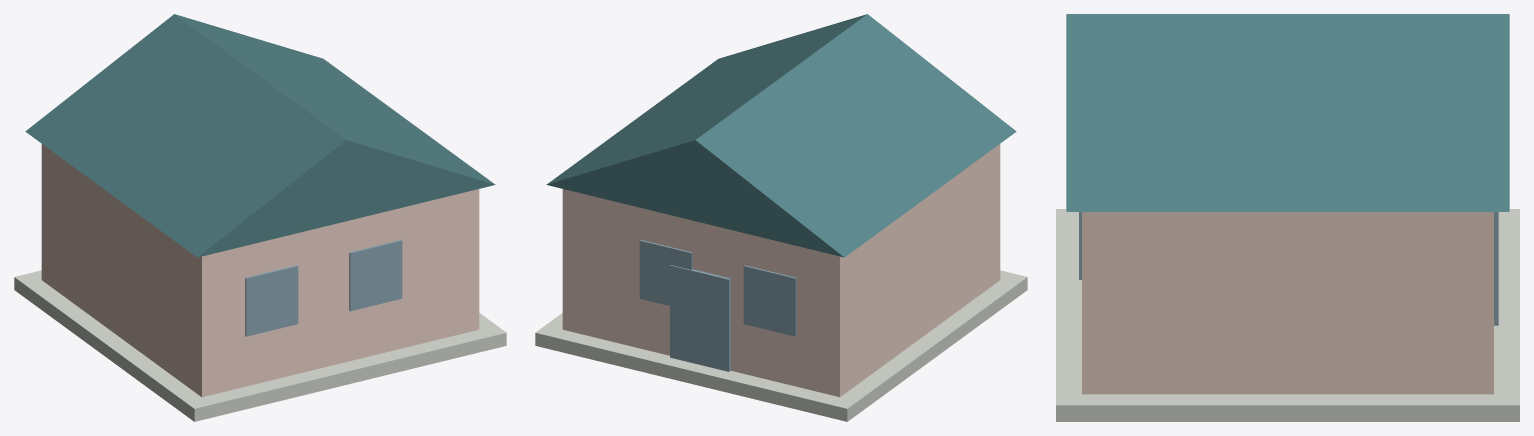
The model's file is town_house.glb.
3 views of the same model, side by side, from view 1: azimuth 30°, elevation 25°; view 2: azimuth 150°, elevation 25°; view 3: azimuth 270°, elevation 25° (orthographic). The views are drawn at different scales.
Visible parts, largest first — view 1: town_house__roof, town_house__walls, town_house__plinth, town_house__window, town_house__window.002; view 2: town_house__roof, town_house__walls, town_house__plinth, town_house__front_door, town_house__window.001, town_house__window.003; view 3: town_house__roof, town_house__walls, town_house__plinth.
Part boxes in pixels (x1=…): town_house__roof: x1=25, y1=14, x2=495, y2=257; town_house__walls: x1=41, y1=144, x2=479, y2=397; town_house__plinth: x1=14, y1=270, x2=506, y2=421; town_house__window: x1=245, y1=265, x2=298, y2=336; town_house__window.002: x1=349, y1=240, x2=402, y2=311; town_house__roof: x1=546, y1=14, x2=1016, y2=257; town_house__walls: x1=562, y1=144, x2=1000, y2=397; town_house__plinth: x1=535, y1=270, x2=1027, y2=421; town_house__front_door: x1=670, y1=265, x2=730, y2=371; town_house__window.001: x1=743, y1=265, x2=796, y2=336; town_house__window.003: x1=639, y1=240, x2=692, y2=305; town_house__roof: x1=1066, y1=14, x2=1509, y2=211; town_house__walls: x1=1082, y1=212, x2=1493, y2=394; town_house__plinth: x1=1056, y1=209, x2=1519, y2=421.
Bounding box in the file's own units: 9 × 6.64 × 9.
